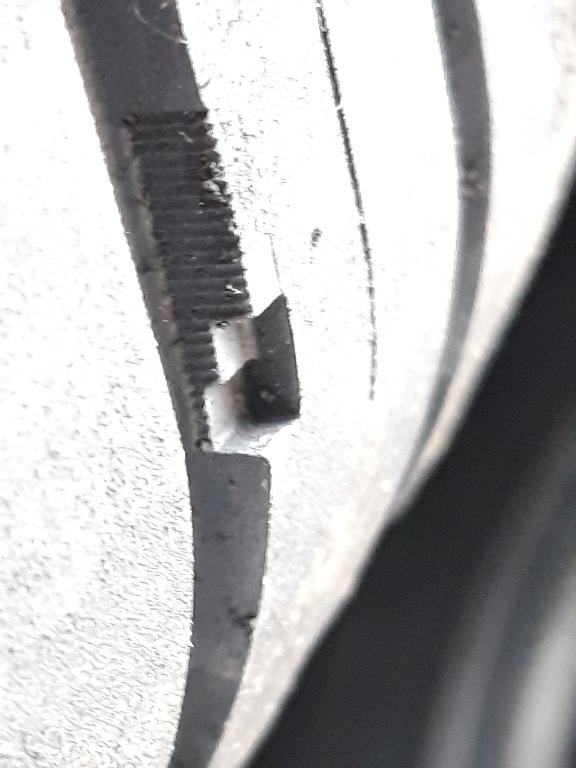temoin:50: (145, 226, 316, 473)
